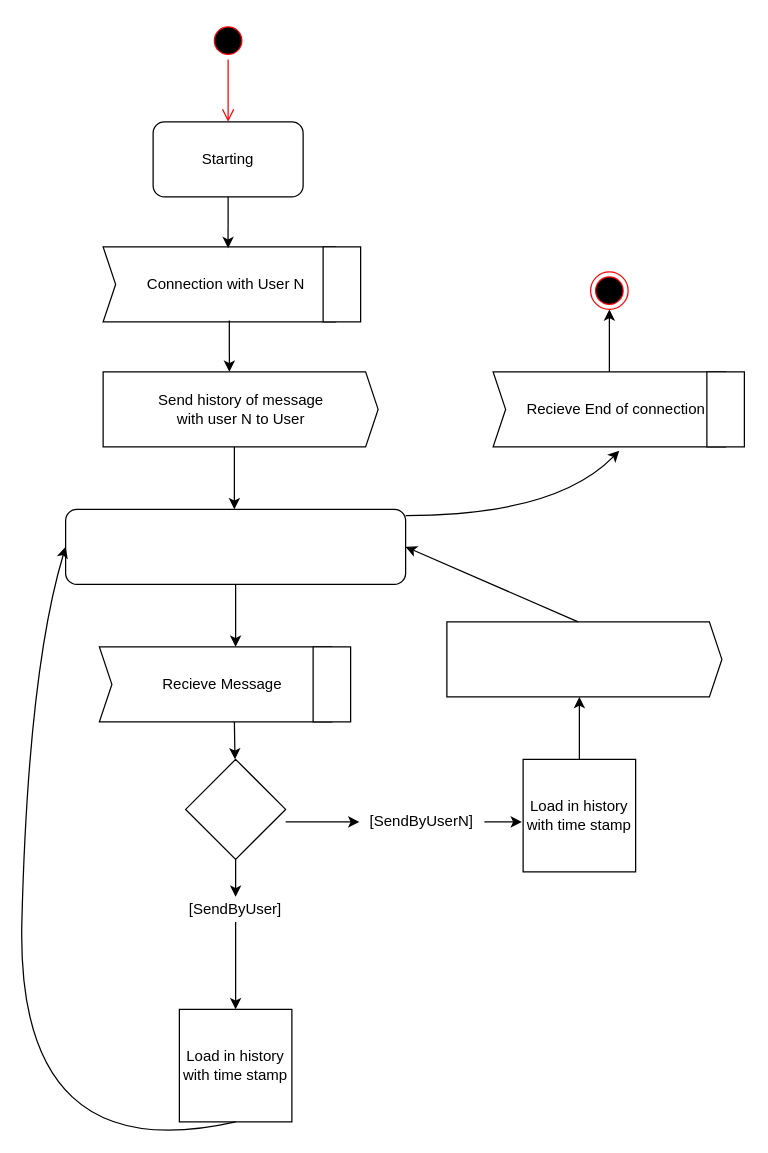
Image size: 768x1153. Some labels were removed from this diagram. Here are the shapes that lost their labels. From the top down, the centre of each, then its label:
pixel 235 546: Waiting for Notify
pixel 584 659: Send Message To Interface Manager
pixel 235 808: Message
